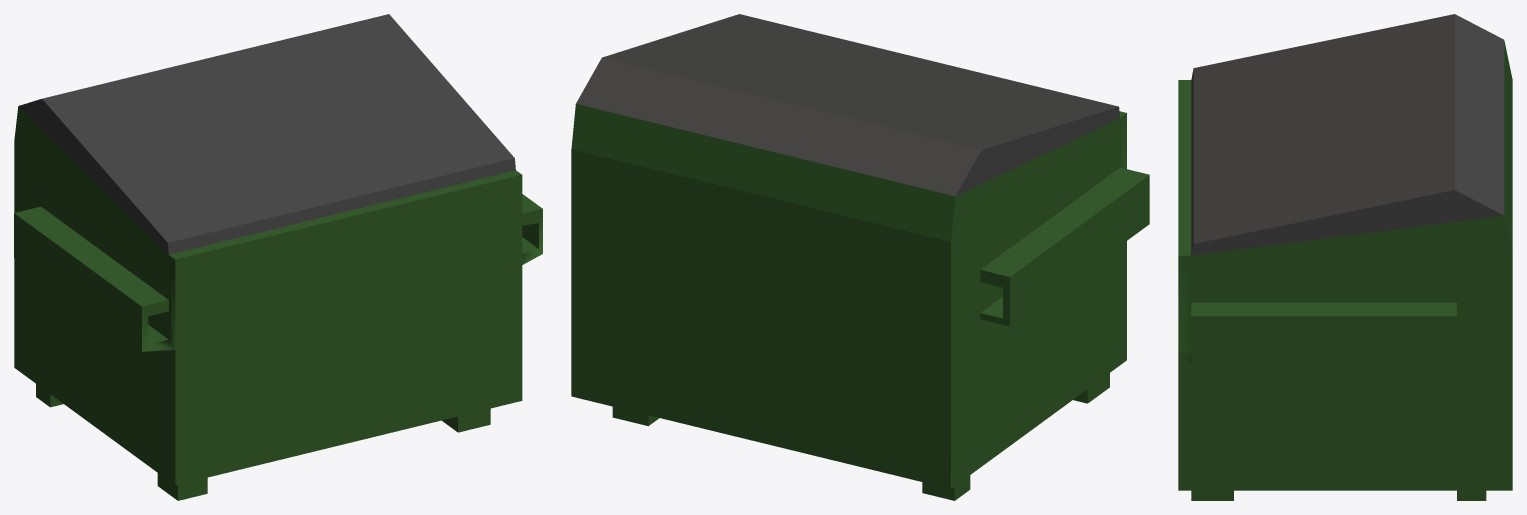
File: garbage_bin.fbx
3 views of the same model, side by side, from view 1: azimuth 30°, elevation 25°; view 2: azimuth 150°, elevation 25°; view 3: azimuth 270°, elevation 25° (orthographic). The views are drawn at different scales.
Visible parts, largest first — view 1: pCube10; view 2: pCube10; view 3: pCube10.
Boxes of the visible parts, x1,y1,x2,y2 form: pCube10: (14,14,542,500); pCube10: (571,14,1149,500); pCube10: (1178,14,1512,500).
Size of the model in its own units: 243 by 181 by 169.
